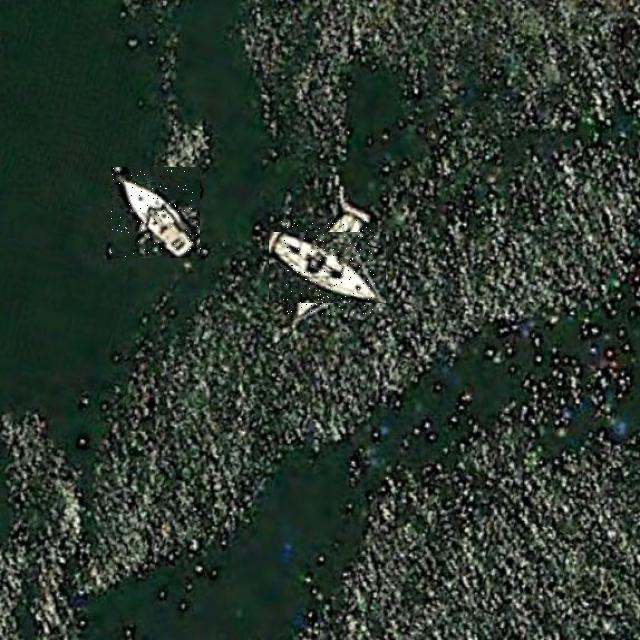boat: (281, 220, 375, 315), (110, 168, 201, 258)
